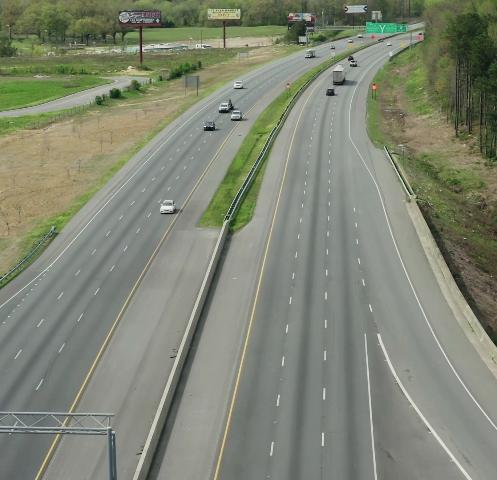car: (160, 195, 177, 217), (203, 121, 216, 130), (231, 110, 242, 120), (219, 103, 230, 113), (234, 81, 243, 89), (328, 87, 335, 95), (350, 60, 357, 66), (348, 56, 354, 61), (358, 33, 363, 38), (387, 42, 392, 46), (348, 39, 353, 43), (331, 46, 336, 49), (419, 33, 423, 36)
truck: (333, 64, 347, 84), (305, 49, 315, 58)
